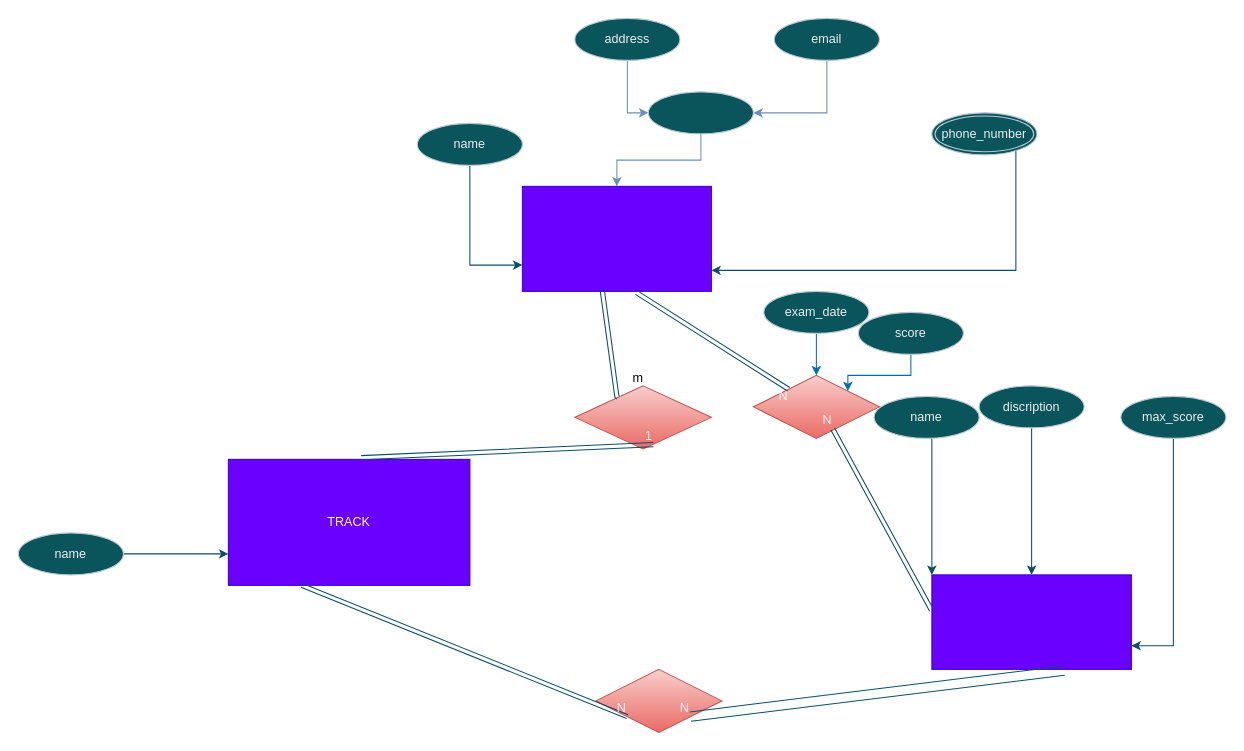
Some shapes in this 1244 by 751 pixel diagram are drawn without their labels. The shapes that lost their labels are listed below. From the top down, each one's centre as x and y in pixels, then its label:
(x=700, y=112): contact_info
(x=616, y=238): STUDENT
(x=642, y=417): belongs_to
(x=815, y=406): study
(x=1031, y=621): SUBJECT
(x=658, y=700): owned_by
